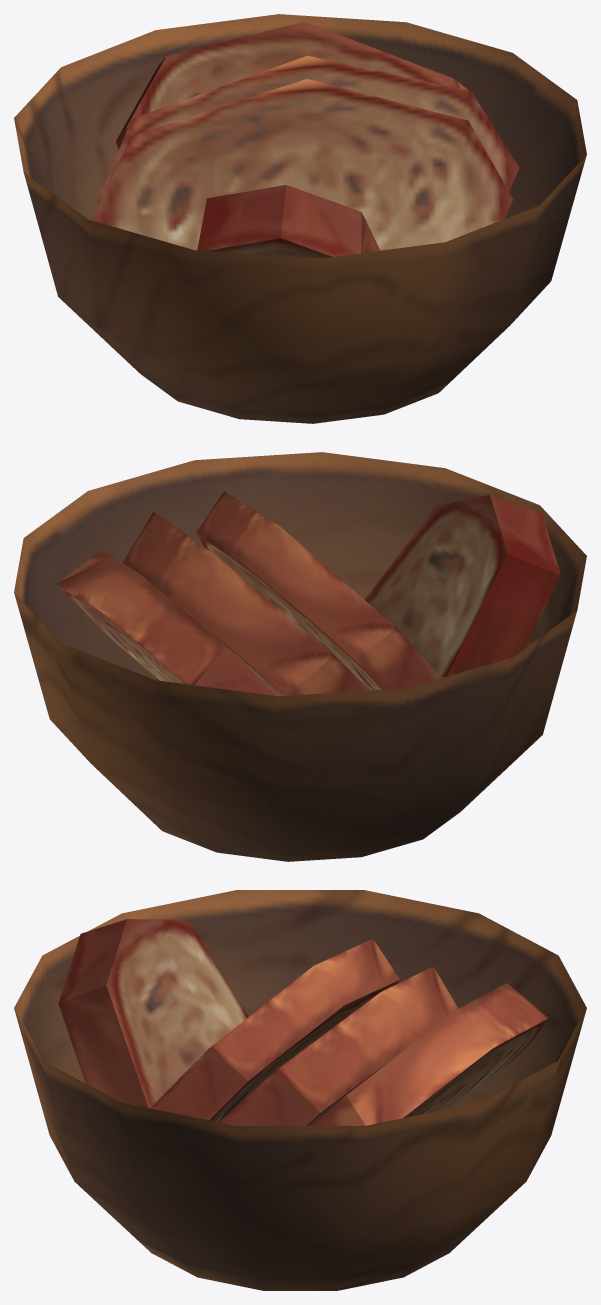
The model's file is plate_wood3_filled_bread.fbx.
3 views of the same model, one above another, from view 1: azimuth 30°, elevation 25°; view 2: azimuth 150°, elevation 25°; view 3: azimuth 270°, elevation 25° (orthographic).
Visible parts, largest first — view 1: plate_wood3_filled_bread; view 2: plate_wood3_filled_bread; view 3: plate_wood3_filled_bread.
Boxes of the visible parts, x1,y1,x2,y2 form: plate_wood3_filled_bread: (14,14,586,423); plate_wood3_filled_bread: (14,452,586,861); plate_wood3_filled_bread: (14,890,586,1290).
Size of the model in its own units: 42.04 by 21.87 by 43.12.
